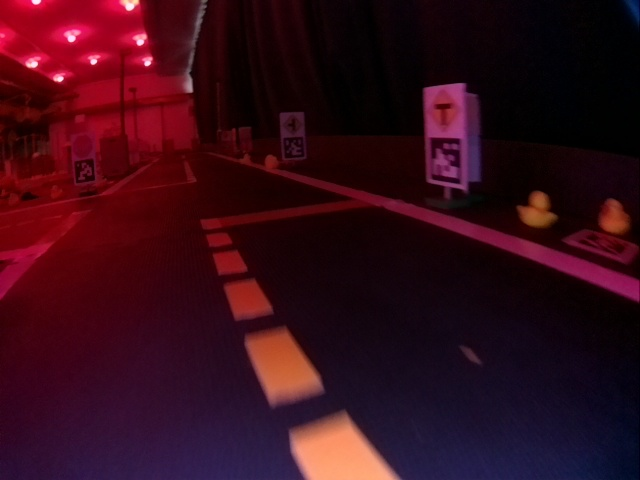Duckie: (519, 193, 556, 226), (601, 198, 630, 234), (265, 155, 278, 167)
Intersection sign: (427, 89, 459, 130), (283, 114, 302, 134)
QR code: (562, 230, 637, 264), (428, 136, 462, 185), (283, 137, 305, 158), (74, 161, 95, 183)
